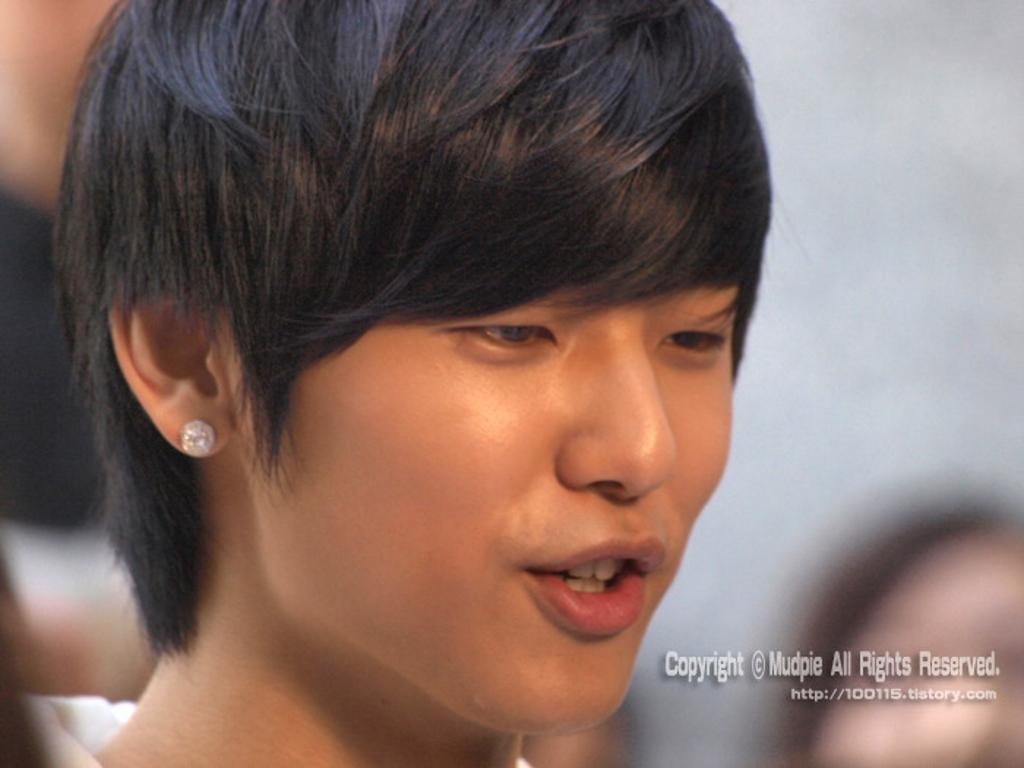face: (249, 67, 763, 731)
